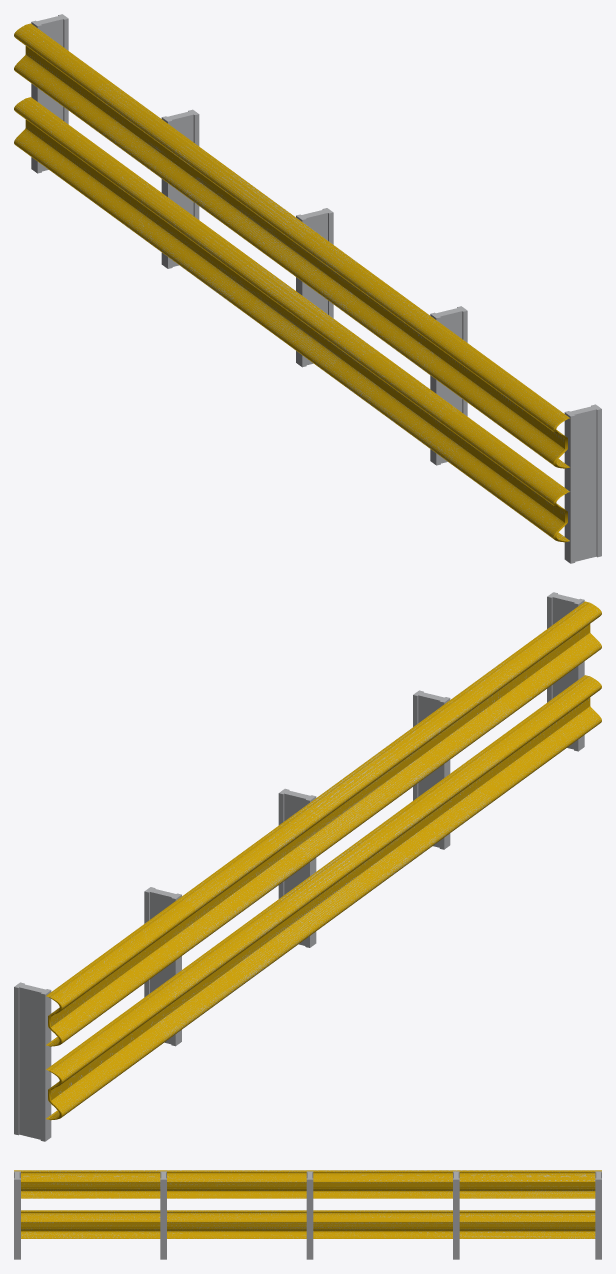
The model's file is yellow_Rail239.obj.
3 views of the same model, one above another, from view 1: azimuth 30°, elevation 25°; view 2: azimuth 150°, elevation 25°; view 3: azimuth 270°, elevation 25° (orthographic). The views are drawn at different scales.
Bounding box in the file's own units: 0.1243 × 0.36 × 2.39.
